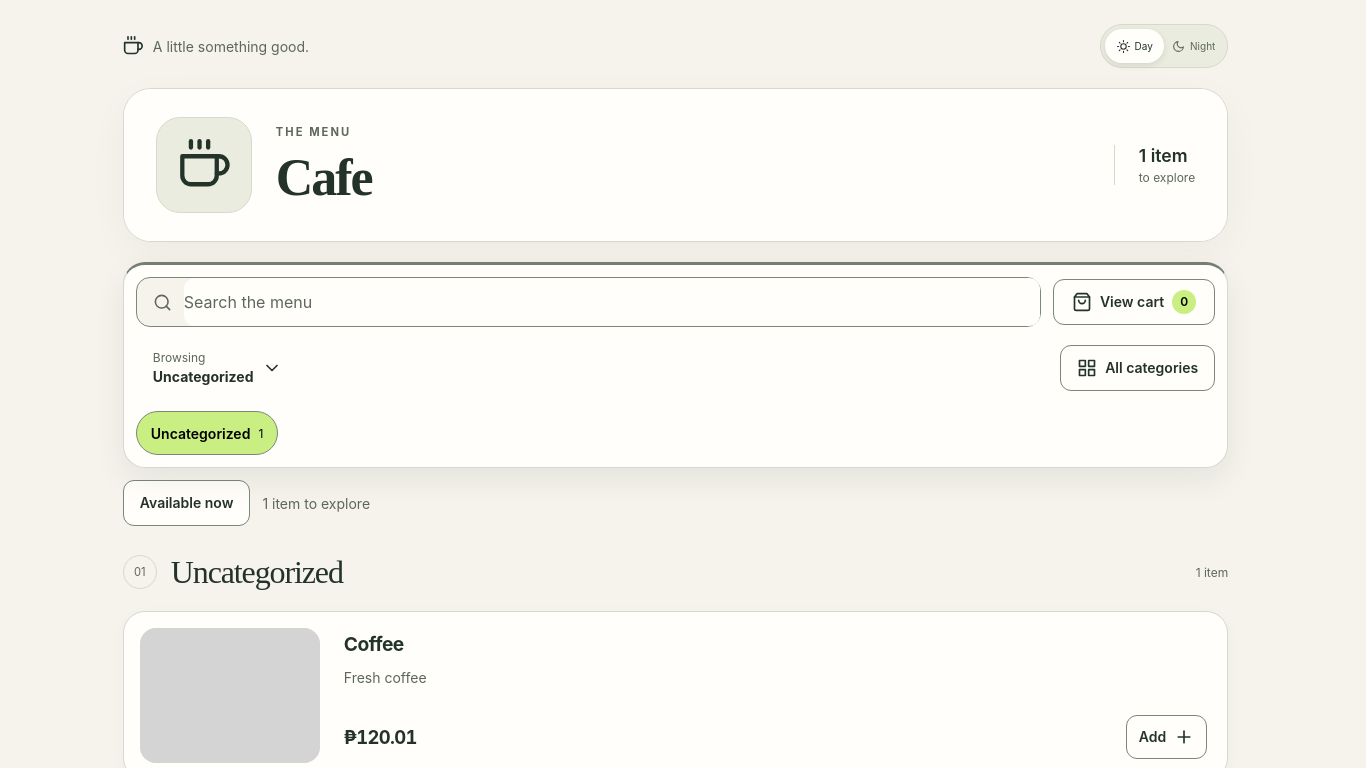
it: requires fresh product details after a server-rejected option selection
The width and height of the screenshot is (1366, 768).
Click the button "Add": (1166, 737) [1126,715,1207,759]
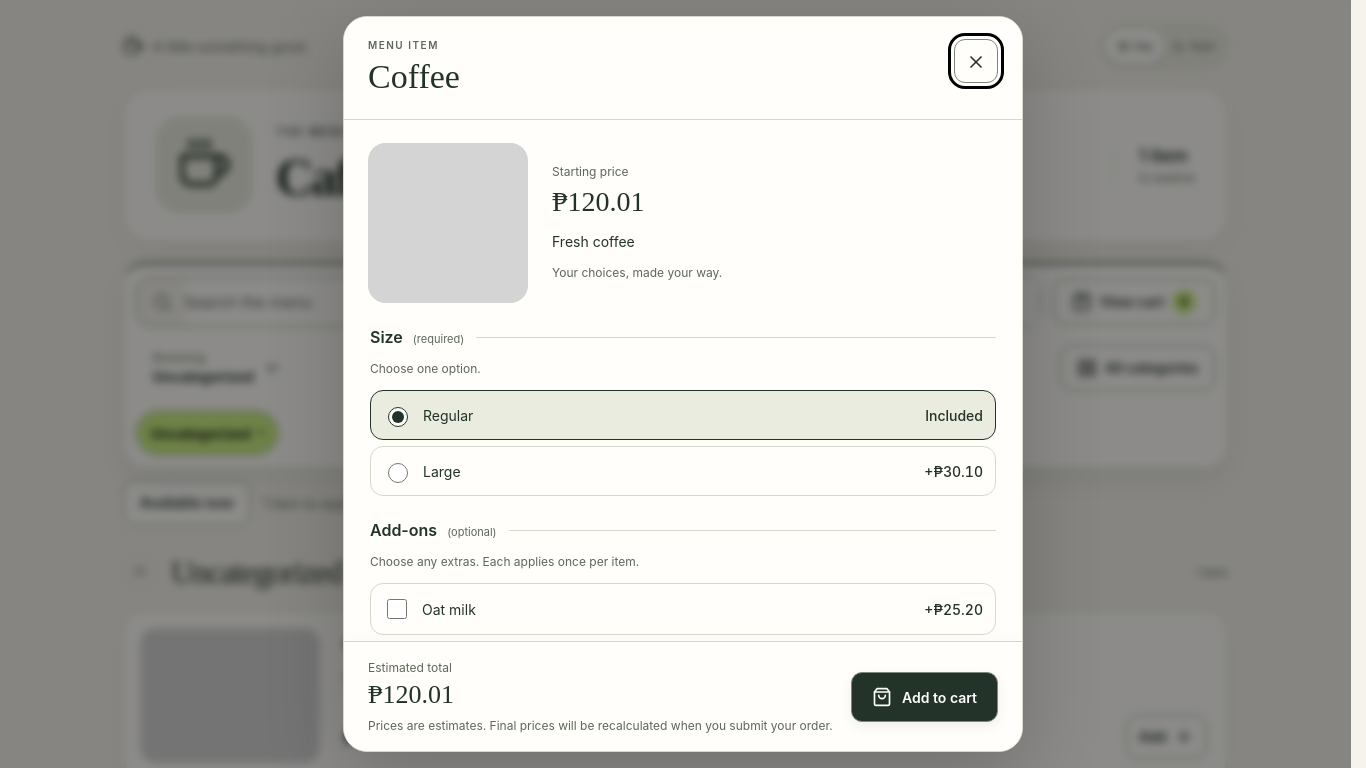
Click the button "Add to cart": (925, 697) [851,672,998,722]
(page scrolled)
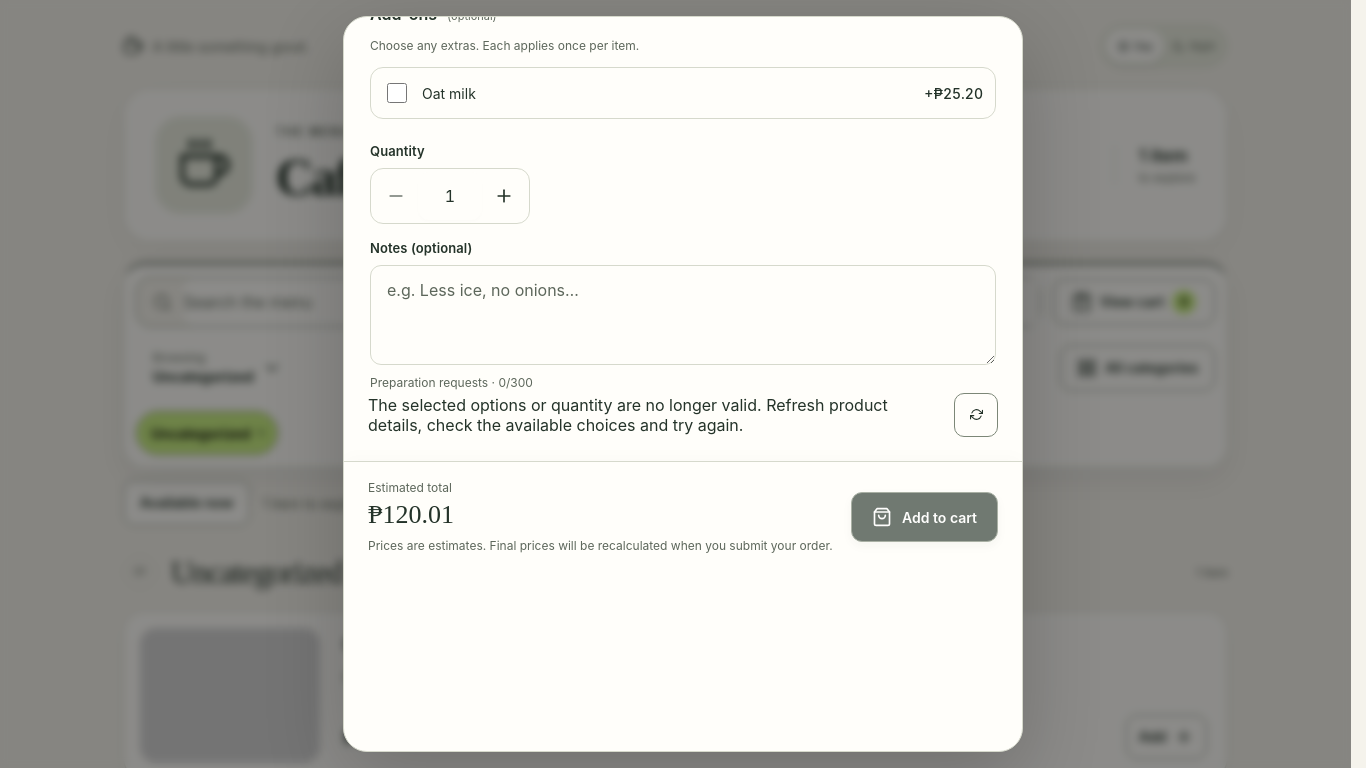
Expected: the 1st message shows "selected options or quantity are no longer valid", [368,395,888,435]
Expected: the button "Add to cart" is disabled, [851,492,998,542]
Click the button named "Refresh details": (976, 415) [954,393,998,437]
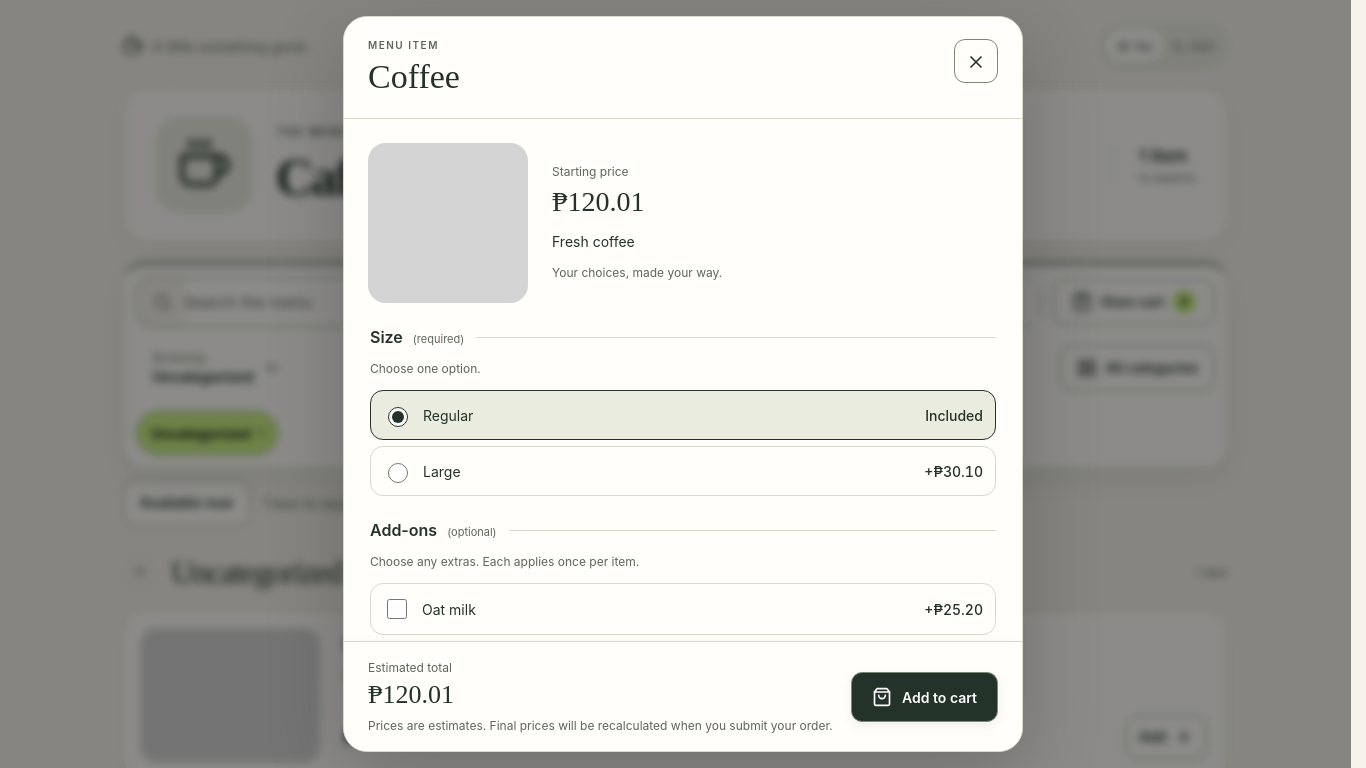
Expected: the button "Add to cart" is enabled, [851,672,998,722]
